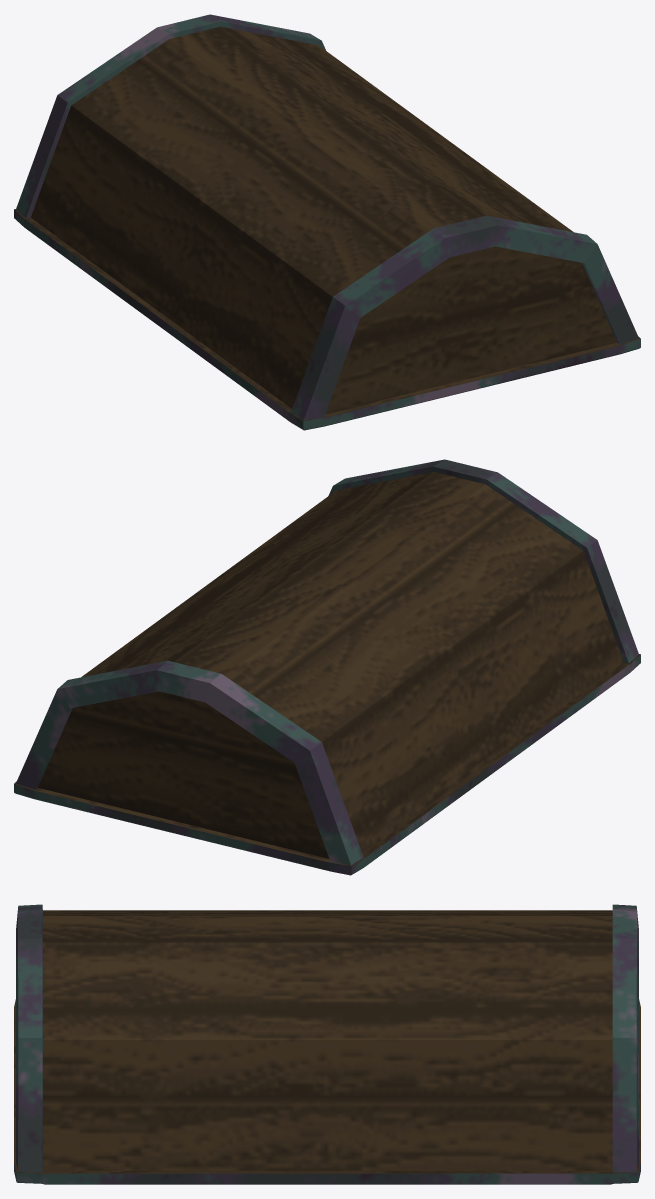
The model's file is Truhen Deckel.fbx.
3 views of the same model, one above another, from view 1: azimuth 30°, elevation 25°; view 2: azimuth 150°, elevation 25°; view 3: azimuth 270°, elevation 25° (orthographic). The views are drawn at different scales.
Visible parts, largest first — view 1: Truhen Deckel; view 2: Truhen Deckel; view 3: Truhen Deckel.
Boxes of the visible parts, bbox=[...] form: Truhen Deckel: bbox=[14, 14, 640, 430]; Truhen Deckel: bbox=[14, 459, 640, 875]; Truhen Deckel: bbox=[14, 904, 640, 1184].
Bounding box in the file's own units: 59.35 × 87.89 × 26.44.
Materials: 1 (1 with a texture image).
